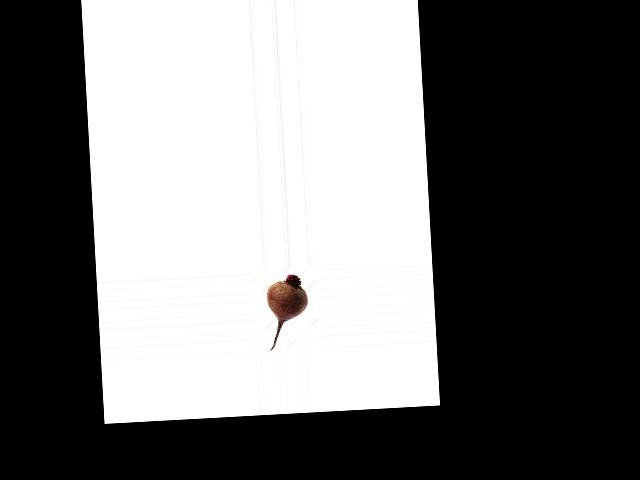beet: (265, 273, 311, 350)
